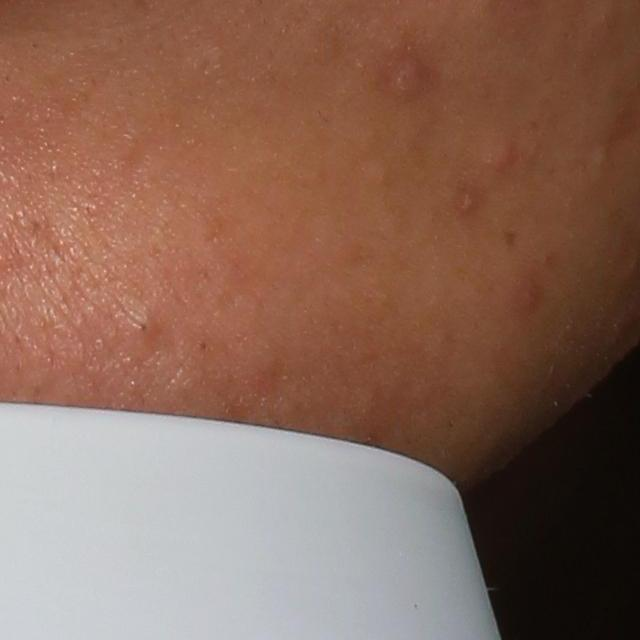comedo: (591, 139, 613, 169)
papule: (385, 56, 430, 99), (480, 135, 517, 180)
